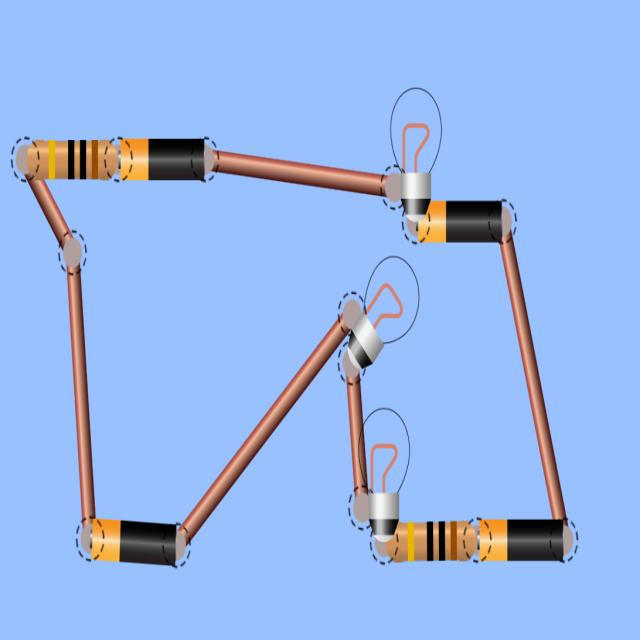Battery: (390, 88, 441, 237), (91, 519, 176, 564), (119, 139, 205, 181), (479, 519, 564, 561), (419, 201, 502, 242)
Light Bulb: (350, 257, 419, 368), (390, 88, 441, 223), (362, 410, 409, 541)
Resistor: (26, 139, 119, 180), (386, 521, 478, 562)
Wire: (179, 315, 348, 540), (500, 223, 566, 519), (212, 151, 386, 196), (68, 267, 95, 528), (27, 175, 72, 247), (346, 374, 368, 494)
